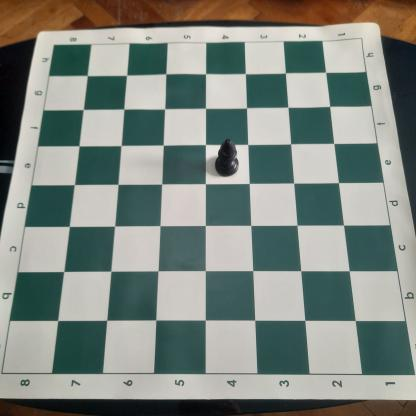black-bishop: (214, 138, 241, 177)
